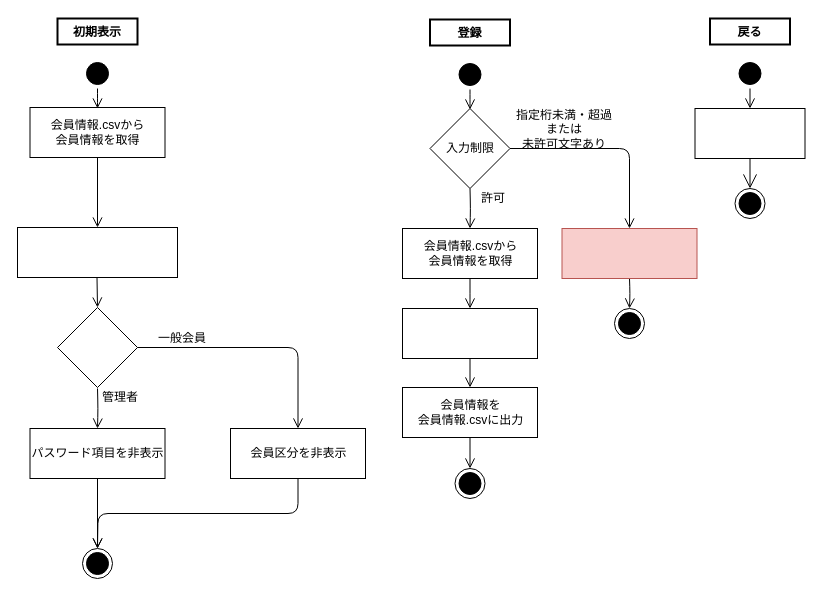
Some shapes in this 823 by 596 pixel diagram are drawn without their labels. Each missing label, with the centre of its shape:
"入力制限を 満たしていません。": [629,253]
会員IDと会員名を設定し、 項目を非活性化: [97,252]
会員区分: [97,347]
対象の会員情報を 上書き: [470,333]
管理者画面へ 遷移: [749,133]
